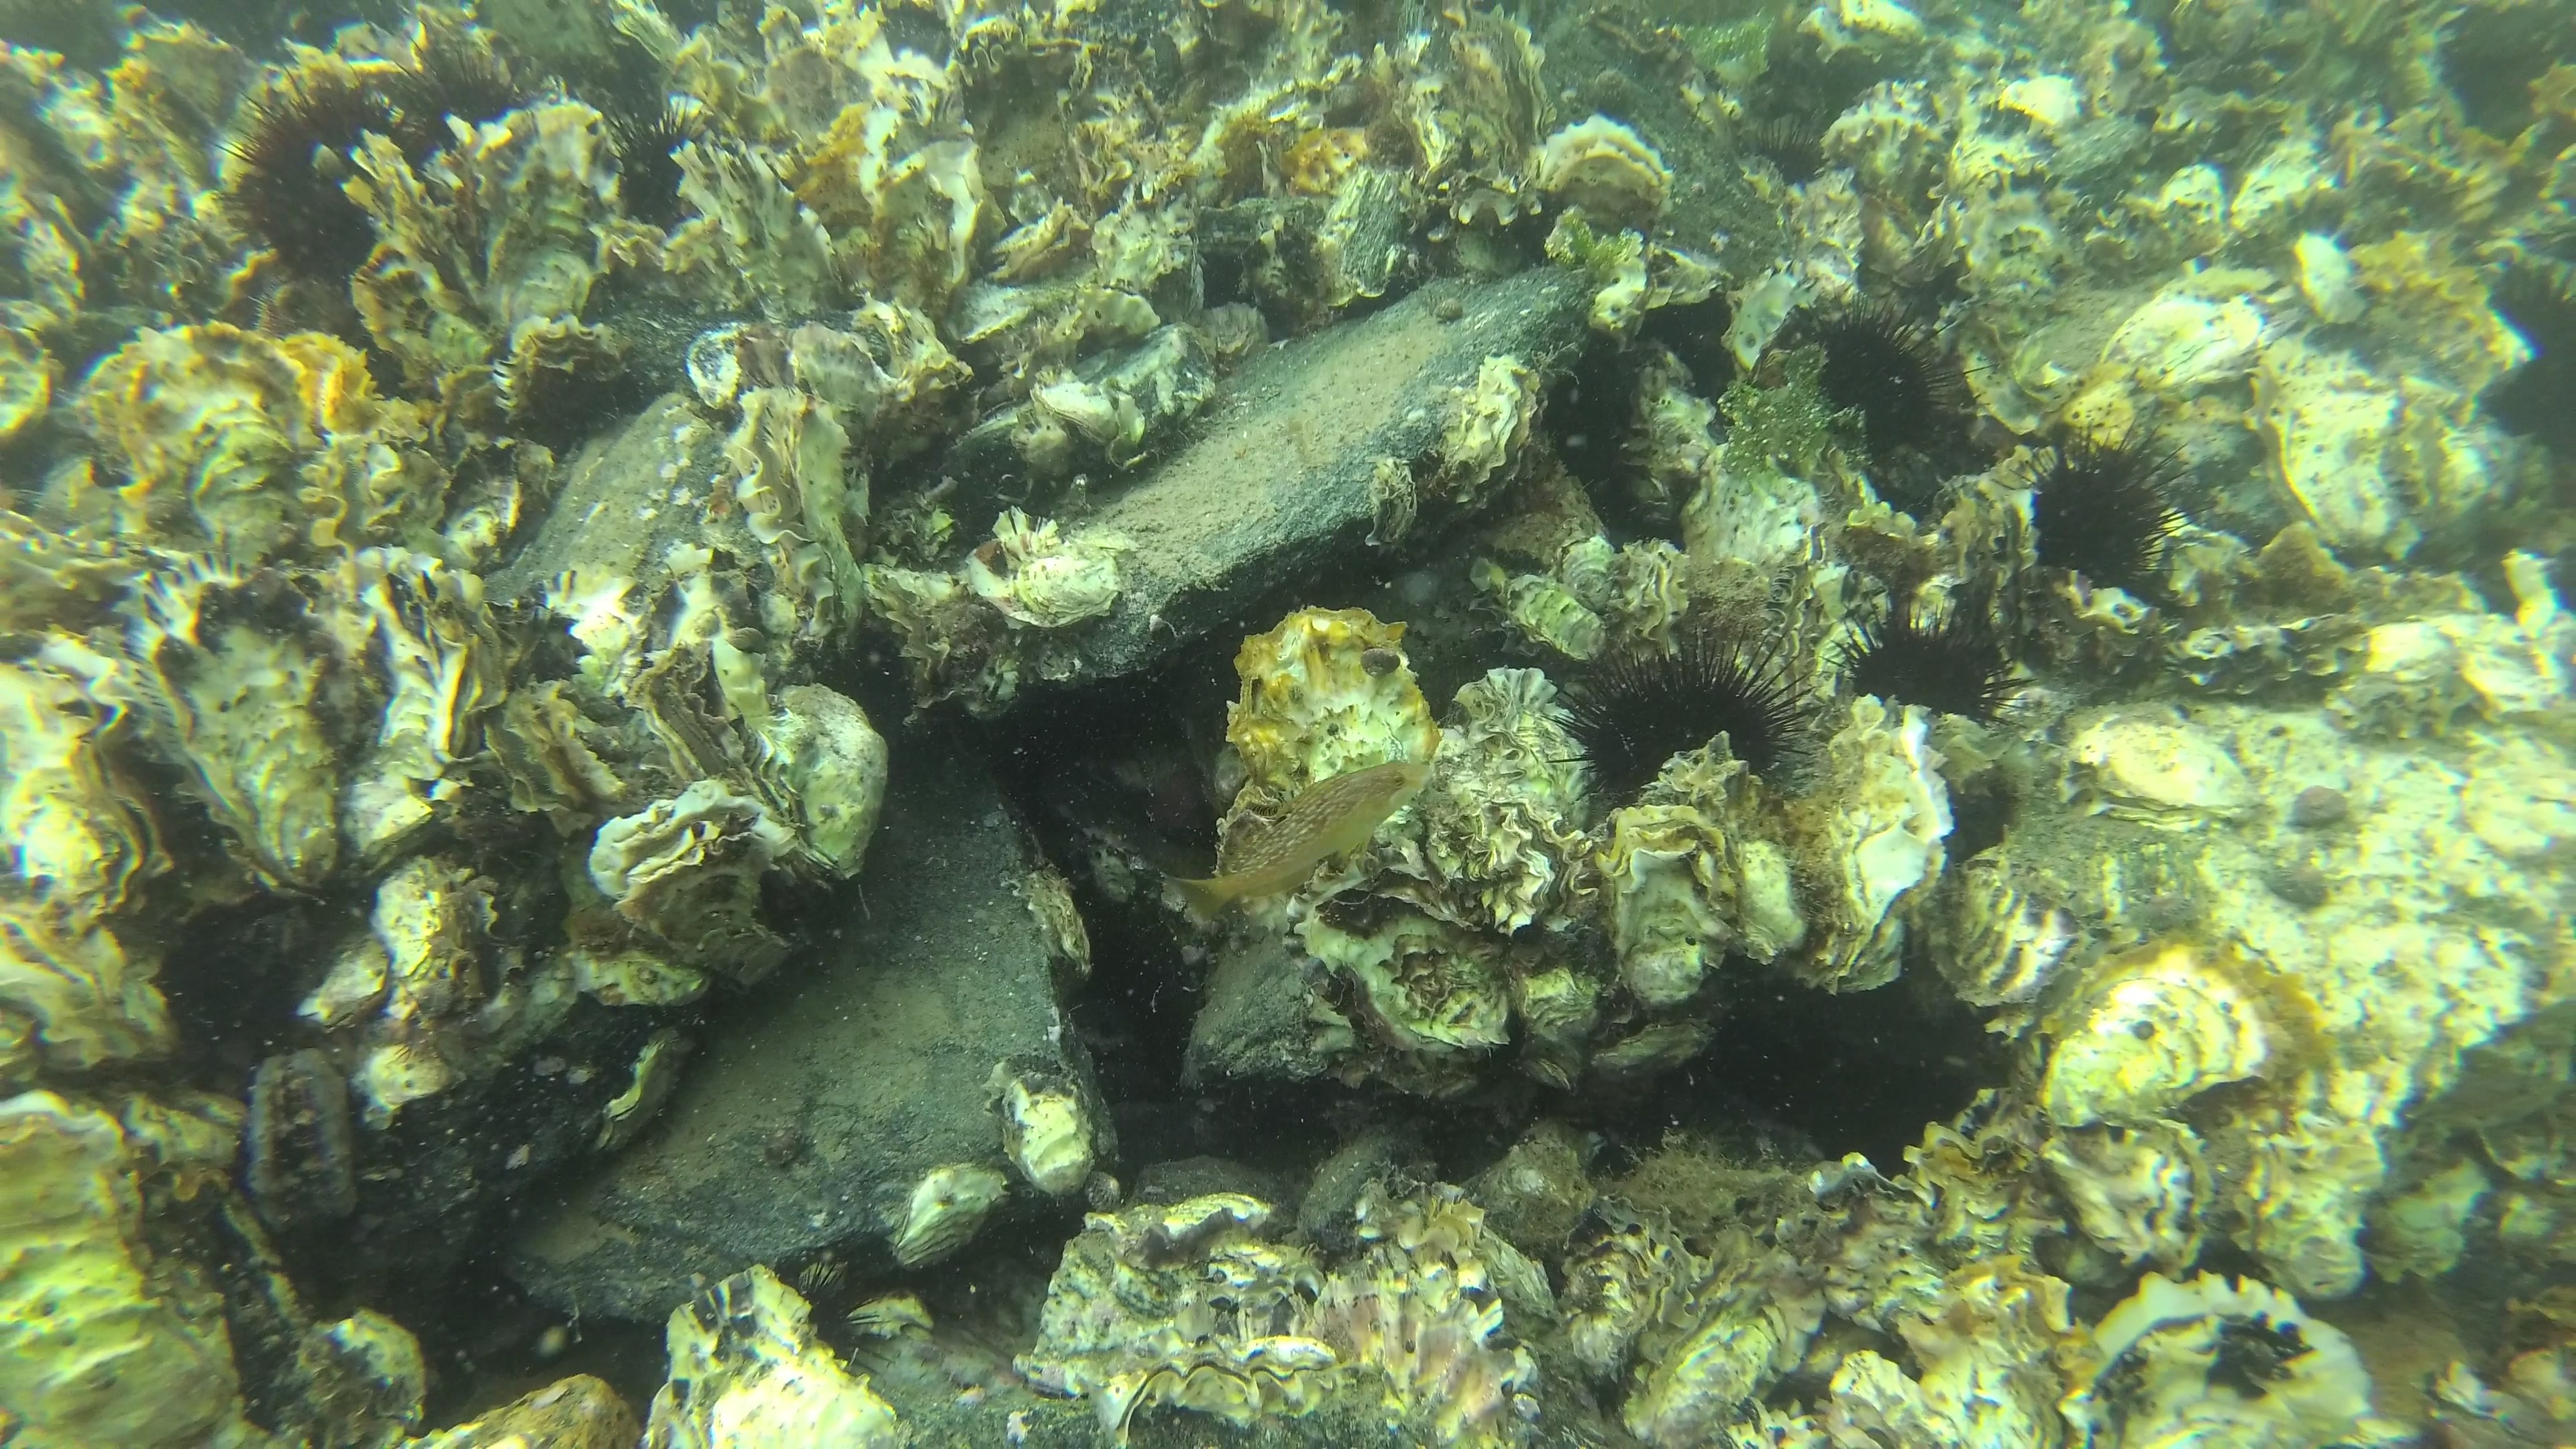echinus: (1537, 623, 1826, 807), (205, 62, 419, 283), (1990, 414, 2224, 586), (1805, 292, 1999, 456), (1821, 587, 2040, 732), (2482, 262, 2576, 462), (395, 35, 531, 150), (782, 1254, 899, 1385), (600, 87, 713, 219), (1750, 113, 1826, 186)
